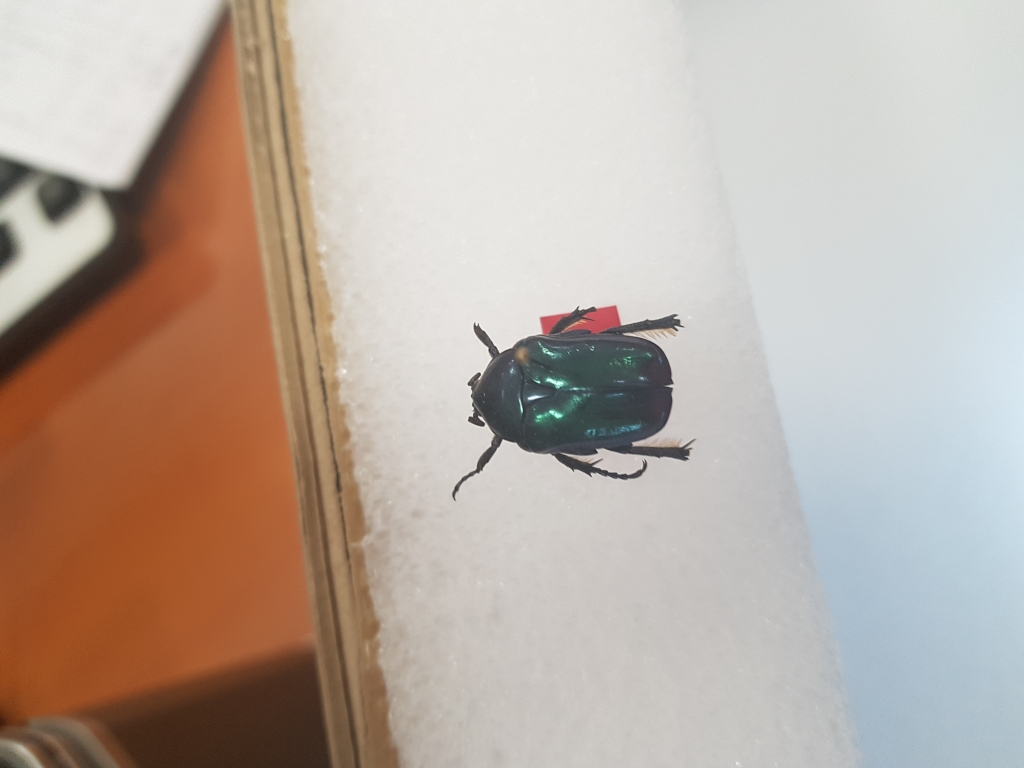Protaetia_besucheti: (435, 293, 702, 503)
